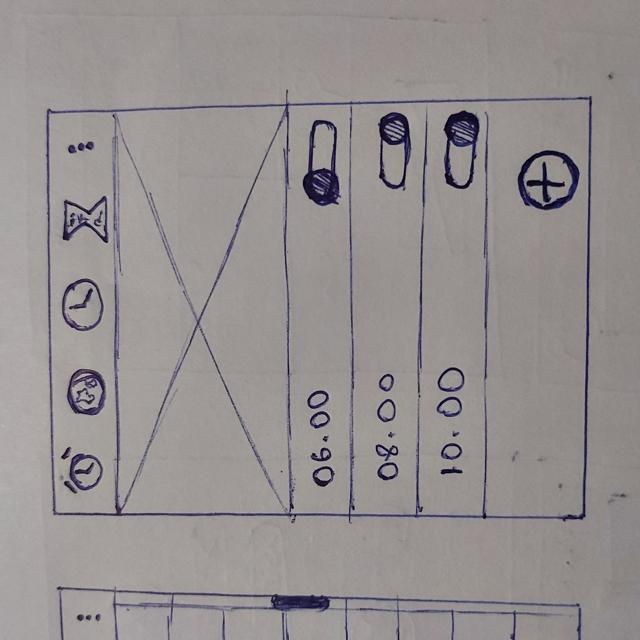Fab: (517, 149, 579, 212)
Icon: (57, 446, 104, 501), (62, 278, 102, 339), (60, 197, 109, 244), (70, 367, 107, 418), (64, 139, 98, 155)
Image: (116, 111, 294, 514)
Layout: (350, 101, 423, 513), (418, 102, 488, 519), (285, 103, 352, 516)
ListView: (286, 104, 490, 520)
MainLayout: (41, 95, 596, 523)
Switch: (303, 117, 342, 213), (441, 111, 479, 193), (375, 112, 412, 193)
Tab: (42, 107, 123, 514)
TabItem: (42, 272, 124, 354), (43, 441, 125, 510), (43, 365, 122, 432), (43, 189, 126, 250), (39, 125, 122, 176)
TextView: (306, 389, 339, 498), (434, 370, 465, 479), (375, 372, 402, 488)
VerticalListView: (290, 101, 489, 516)
